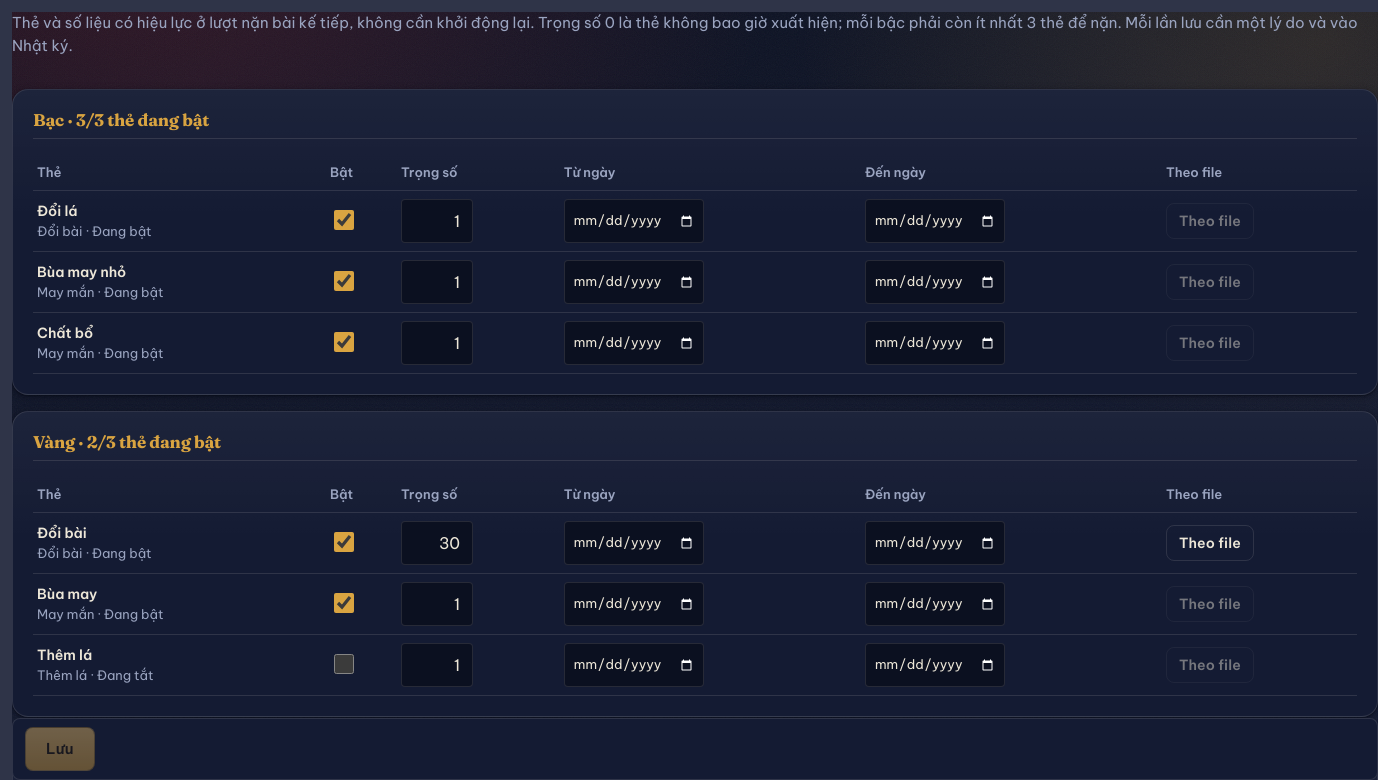
ChaosTab › refuses a weight that is not 0–100, or a window that ends before it starts, before anything is sent
Replace the text in the field named "Trọng số của Đổi lá" with "101" at coordinates (437, 221), box [401, 199, 473, 243]
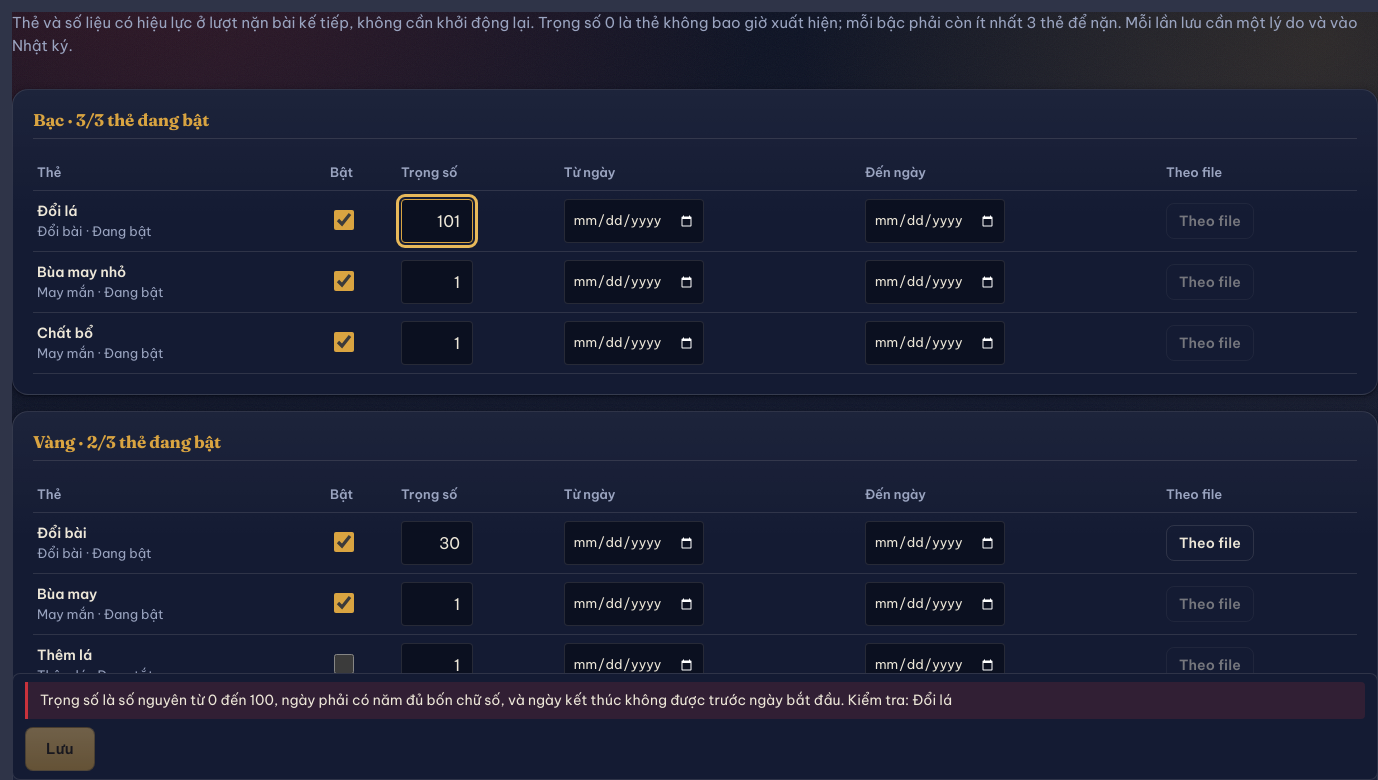
Expected: the button "Lưu" is disabled, [25, 727, 94, 771]
Expected: the message shows "Trọng số là số nguyên từ 0 đến 100, ngày phải có năm đủ bốn chữ số, và ngày kết thúc không được trước ngày bắt đầu.", [40, 691, 844, 709]
Expected: the message shows "Đổi lá", [848, 691, 952, 709]
Replace the text in the field named "Trọng số của Đổi lá" with "100" at coordinates (437, 221), box [401, 199, 473, 243]
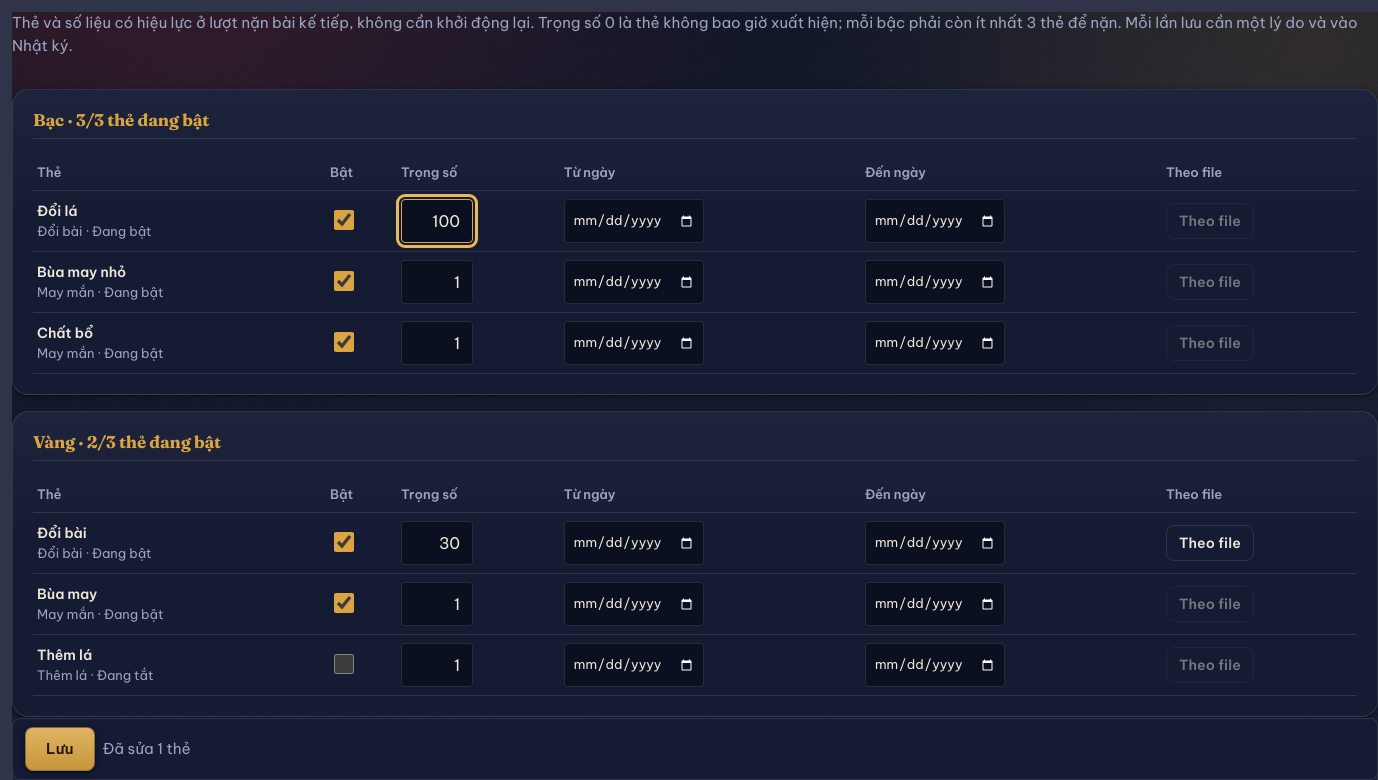
Type "2026-11-10" into the date field named "Đổi lá: từ ngày" at coordinates (634, 221), box [564, 199, 704, 243]
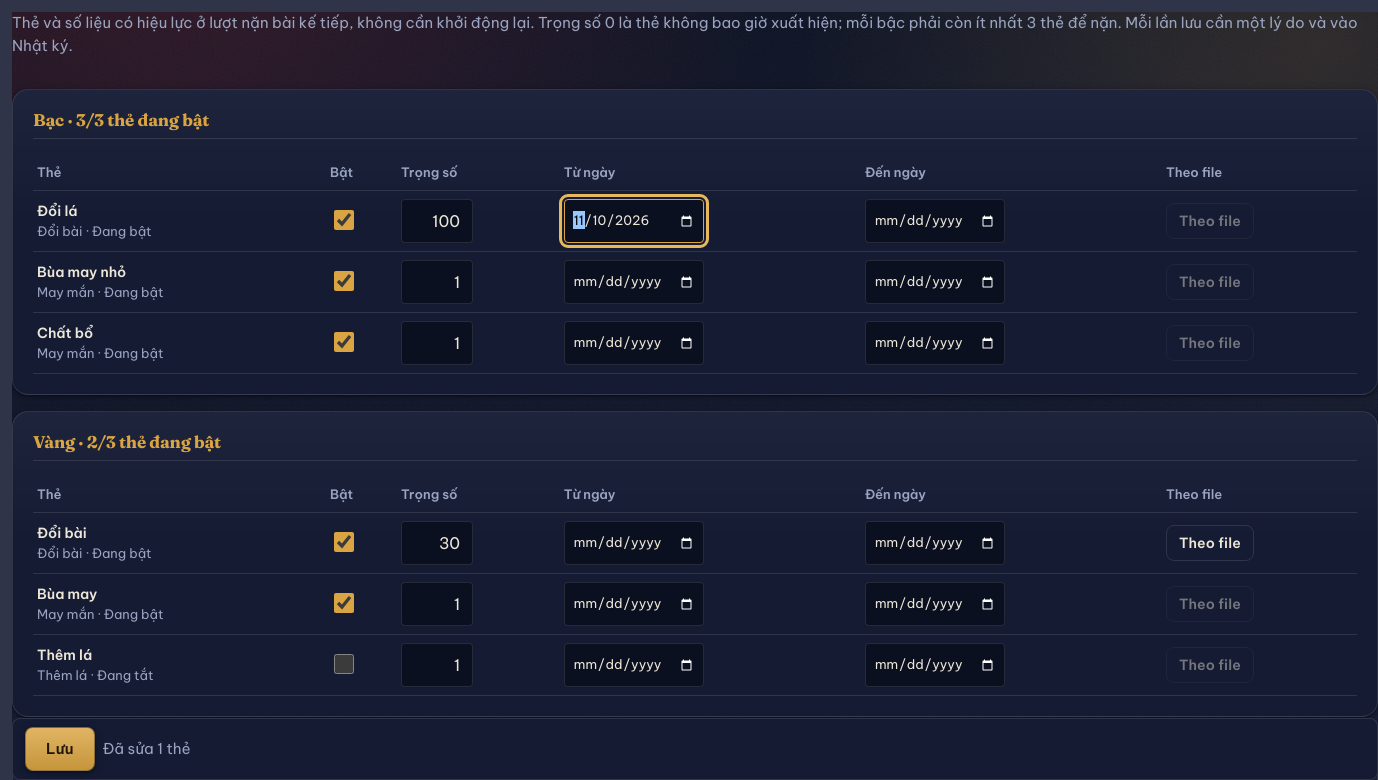
Type "2026-11-09" into the date field named "Đổi lá: đến ngày" at coordinates (935, 221), box [865, 199, 1005, 243]
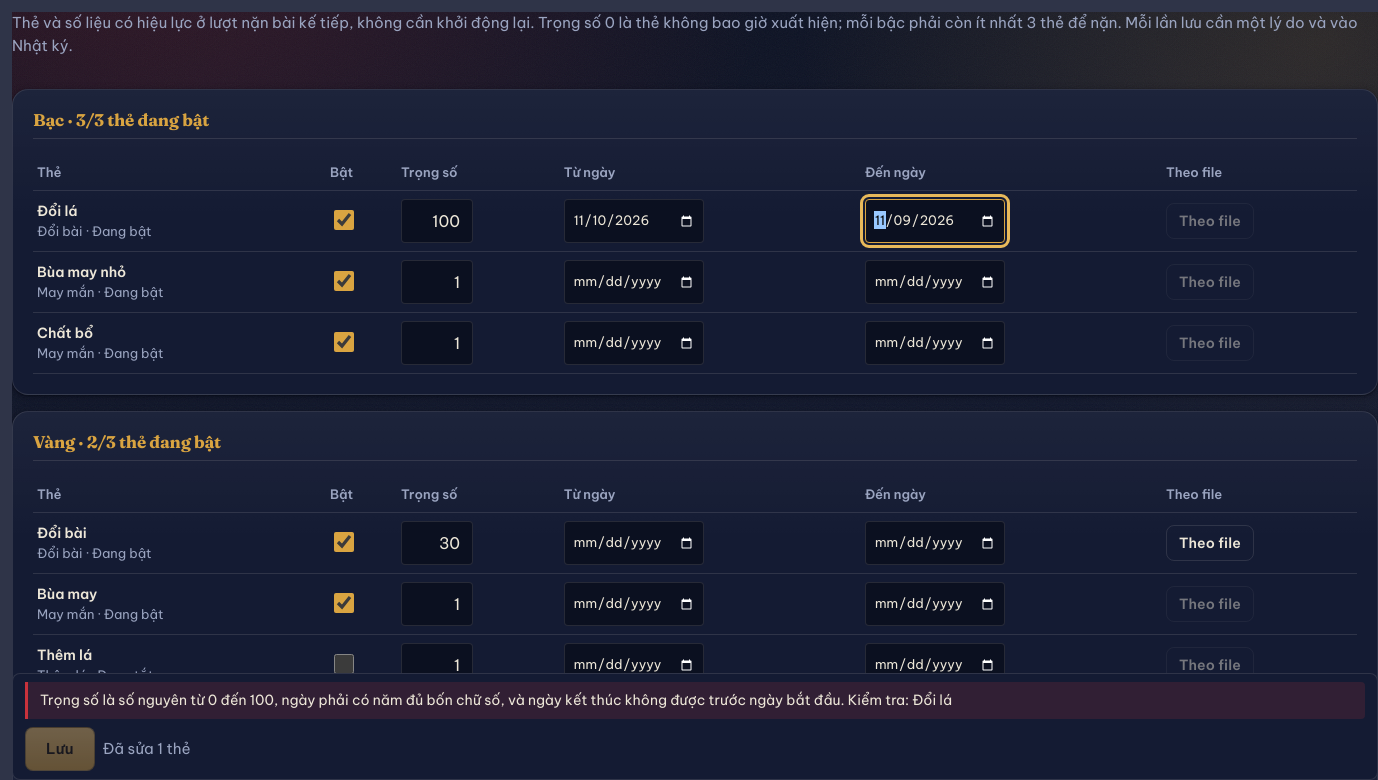
Expected: the message is shown, [25, 682, 1365, 719]
Expected: the button "Lưu" is disabled, [25, 727, 94, 771]
